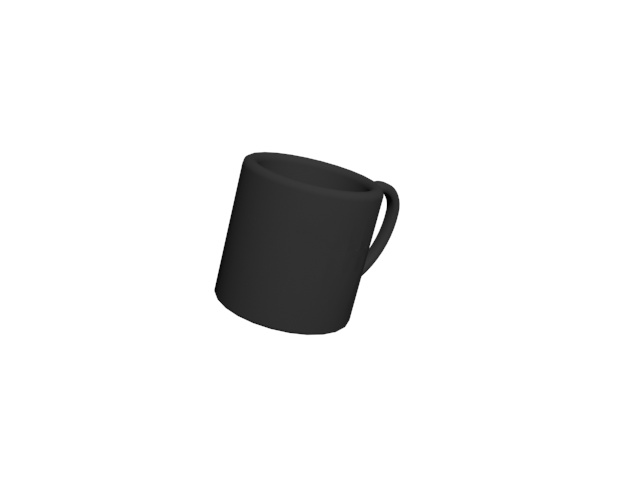mug: (209, 146, 400, 336)
